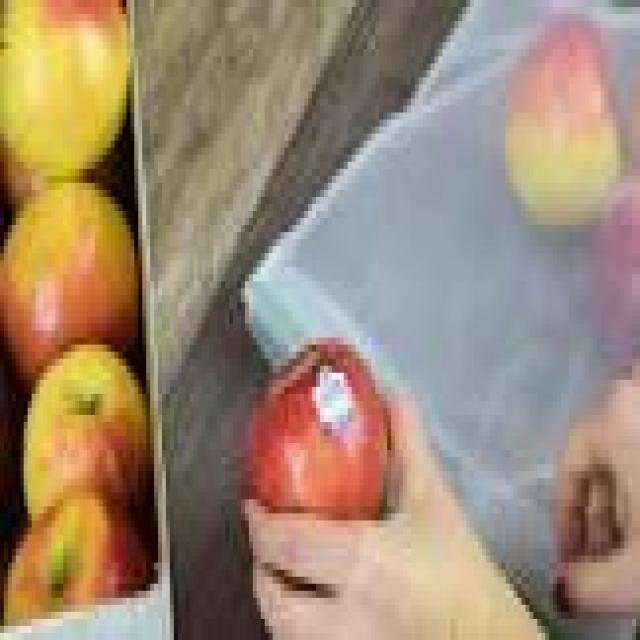apple: (0, 183, 138, 379), (245, 338, 391, 520), (506, 15, 624, 225), (0, 0, 130, 182), (24, 345, 154, 520), (4, 493, 150, 625), (593, 176, 639, 365), (0, 352, 23, 534), (0, 141, 43, 210), (633, 78, 639, 161)
